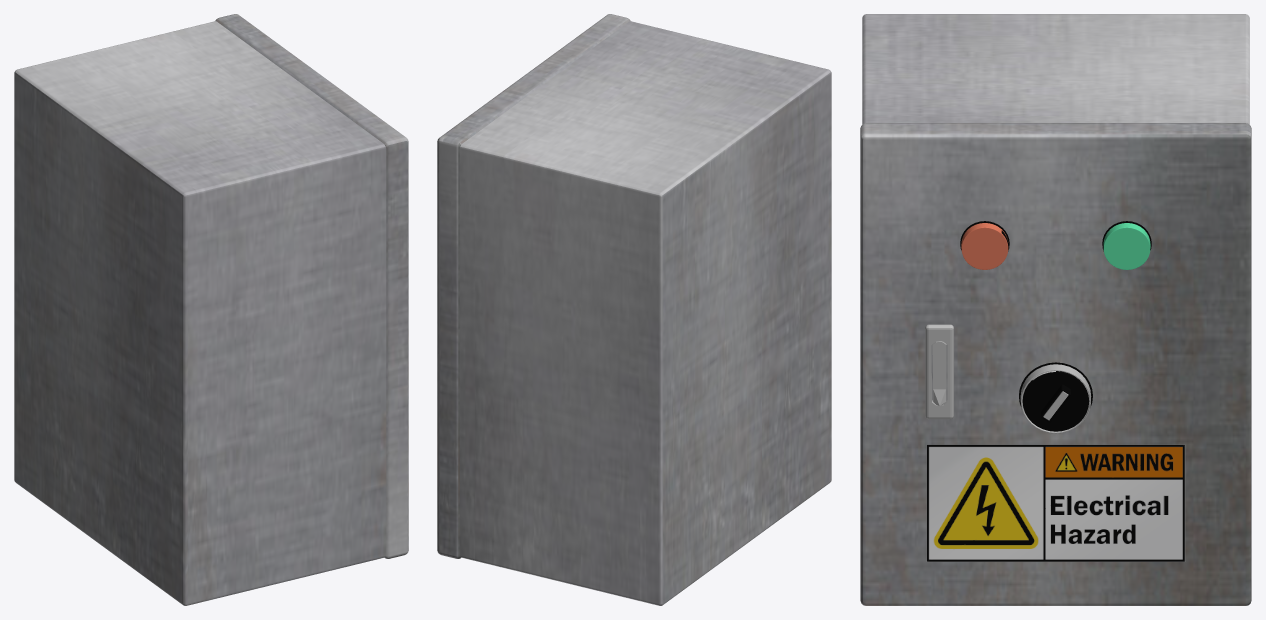
Rendered from boz2.fbx.
3 views of the same model, side by side, from view 1: azimuth 30°, elevation 25°; view 2: azimuth 150°, elevation 25°; view 3: azimuth 270°, elevation 25° (orthographic). The views are drawn at different scales.
Parts seen in each view (by area): view 1: pCube1, pCube2; view 2: pCube1, pCube2; view 3: pCube2, pCube1, pCube5, pCylinder3, pCube3, pCylinder1, pCylinder2, pCube4.
Boxes of the visible parts, bbox=[...] form: pCube1: bbox=[14, 21, 386, 605]; pCube2: bbox=[215, 14, 408, 558]; pCube1: bbox=[459, 21, 831, 605]; pCube2: bbox=[437, 14, 630, 558]; pCube2: bbox=[860, 123, 1251, 605]; pCube1: bbox=[862, 14, 1249, 124]; pCube5: bbox=[926, 444, 1185, 561]; pCylinder3: bbox=[1019, 362, 1092, 433]; pCube3: bbox=[925, 324, 953, 419]; pCylinder1: bbox=[960, 221, 1009, 269]; pCylinder2: bbox=[1102, 221, 1151, 269]; pCube4: bbox=[1041, 384, 1070, 422].
Bounding box in the file's own units: 2.48 × 4.04 × 3.03.
Materials: 7 (2 with a texture image).
